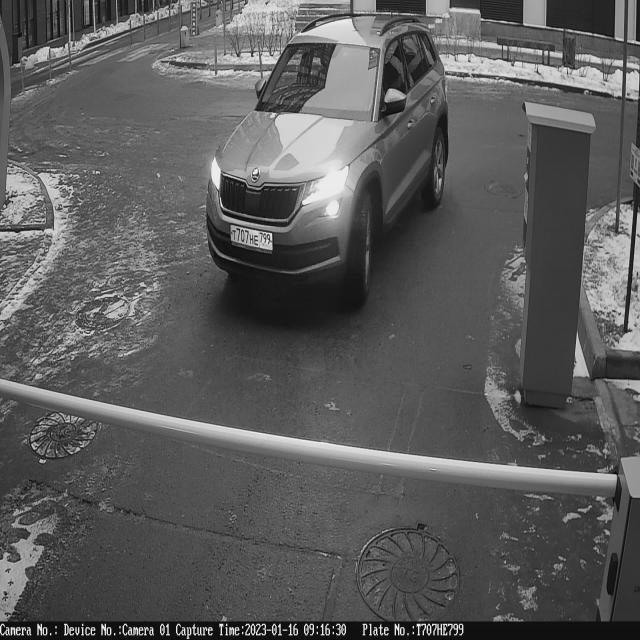car-plate-numbers: (228, 220, 276, 258)
